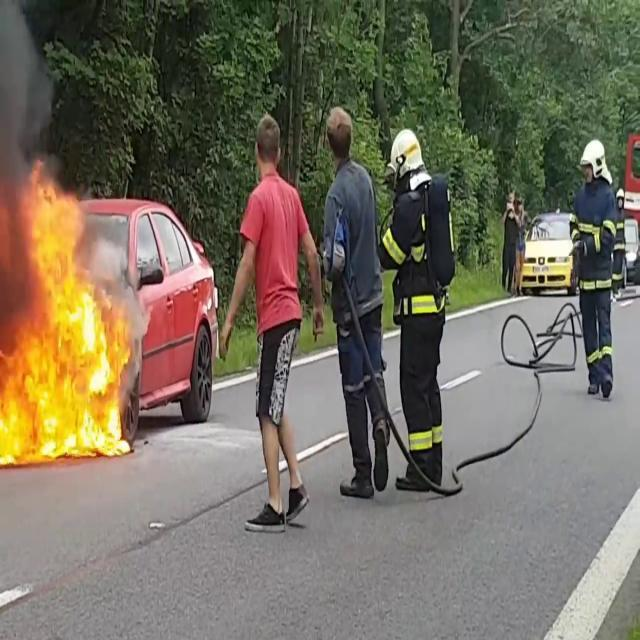Fire: (0, 160, 130, 465)
